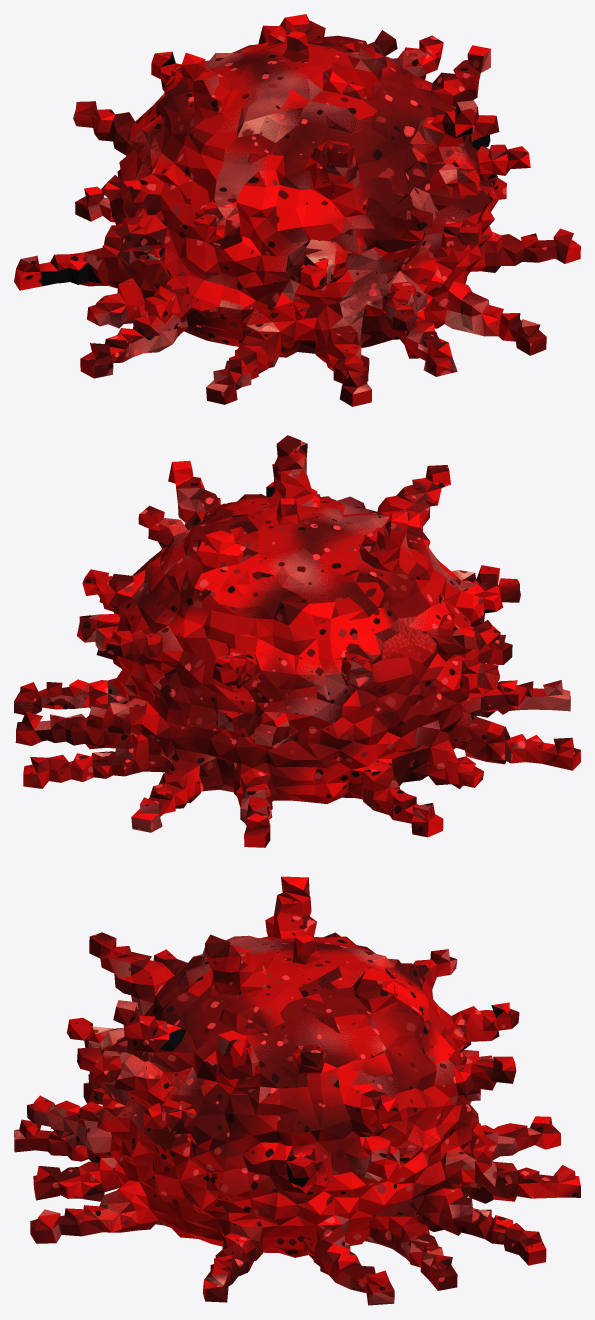
3 views of the same model, one above another, from view 1: azimuth 30°, elevation 25°; view 2: azimuth 150°, elevation 25°; view 3: azimuth 270°, elevation 25° (orthographic). The views are drawn at different scales.
Parts seen in each view (by area): view 1: node_0; view 2: node_0; view 3: node_0.
Boxes of the visible parts, x1,y1,x2,y2 form: node_0: [14, 14, 580, 406]; node_0: [14, 435, 580, 847]; node_0: [14, 876, 580, 1305].
Size of the model in its own units: 1.02 by 0.5245 by 0.9902.
1 material, 1 textured.
